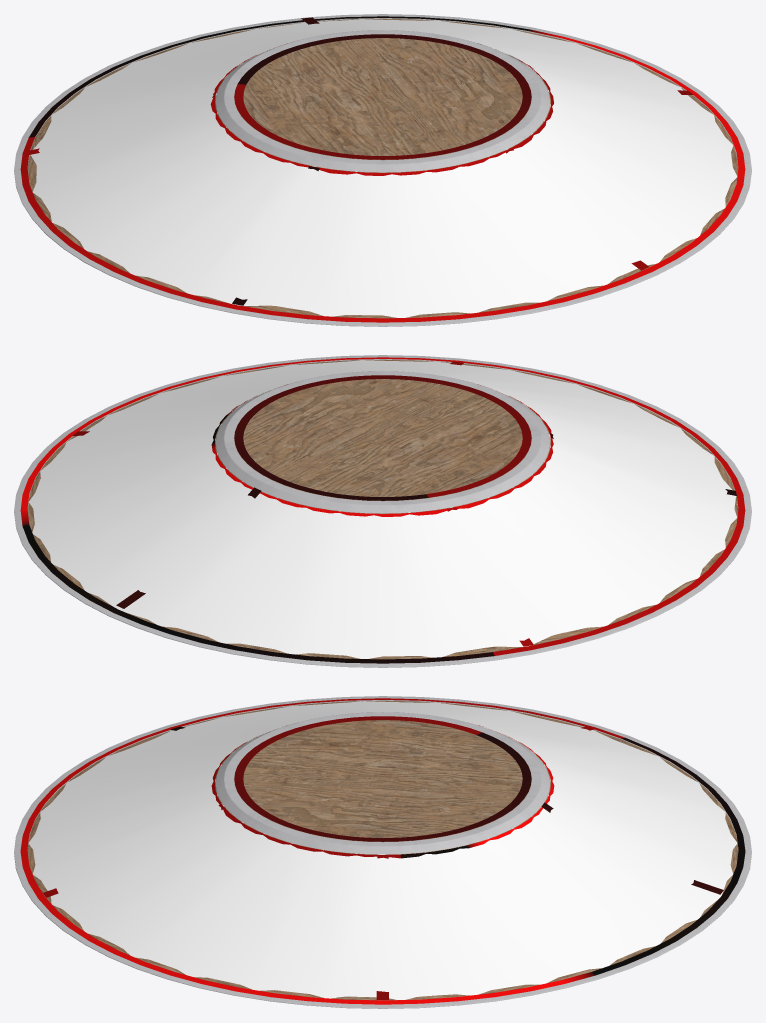
Rendered from Generic Volcano Small.fbx.
The picture shows the model from 3 angles, top to bottom: view 1: azimuth 30°, elevation 25°; view 2: azimuth 150°, elevation 25°; view 3: azimuth 270°, elevation 25°; orthographic projection.
Visible parts, largest first — view 1: RS_LOD3_SECTION0_QD_Treshold_M_proxy, RS_LOD0_SECTION0_QD_Treshold_M_RSMAT_1, RS_LOD0_SECTION0_QD_Treshold_M_RSMAT_0, RS_LOD1_SECTION0_QD_Treshold_M_RSMAT_6, RS_LOD0_SECTION1_QD_Edges_M, RS_LOD2_SECTION0_QD_Treshold_M_RSMAT_10, RS_LOD0_SECTION0_QD_Treshold_M_RSMAT_3; view 2: RS_LOD3_SECTION0_QD_Treshold_M_proxy, RS_LOD0_SECTION0_QD_Treshold_M_RSMAT_1, RS_LOD0_SECTION0_QD_Treshold_M_RSMAT_0, RS_LOD1_SECTION0_QD_Treshold_M_RSMAT_6, RS_LOD0_SECTION1_QD_Edges_M, RS_LOD2_SECTION0_QD_Treshold_M_RSMAT_10, RS_LOD0_SECTION0_QD_Treshold_M_RSMAT_3; view 3: RS_LOD3_SECTION0_QD_Treshold_M_proxy, RS_LOD0_SECTION0_QD_Treshold_M_RSMAT_1, RS_LOD0_SECTION0_QD_Treshold_M_RSMAT_0, RS_LOD0_SECTION1_QD_Edges_M, RS_LOD1_SECTION0_QD_Treshold_M_RSMAT_6, RS_LOD2_SECTION0_QD_Treshold_M_RSMAT_10, RS_LOD0_SECTION0_QD_Treshold_M_RSMAT_3.
Part boxes in pixels (bbox=[...]): RS_LOD3_SECTION0_QD_Treshold_M_proxy: bbox=[31, 19, 737, 317]; RS_LOD0_SECTION0_QD_Treshold_M_RSMAT_1: bbox=[234, 38, 531, 160]; RS_LOD0_SECTION0_QD_Treshold_M_RSMAT_0: bbox=[14, 14, 751, 326]; RS_LOD1_SECTION0_QD_Treshold_M_RSMAT_6: bbox=[236, 38, 519, 159]; RS_LOD0_SECTION1_QD_Edges_M: bbox=[20, 16, 745, 322]; RS_LOD2_SECTION0_QD_Treshold_M_RSMAT_10: bbox=[243, 38, 522, 154]; RS_LOD0_SECTION0_QD_Treshold_M_RSMAT_3: bbox=[27, 18, 738, 318]; RS_LOD3_SECTION0_QD_Treshold_M_proxy: bbox=[29, 360, 737, 658]; RS_LOD0_SECTION0_QD_Treshold_M_RSMAT_1: bbox=[234, 379, 531, 501]; RS_LOD0_SECTION0_QD_Treshold_M_RSMAT_0: bbox=[14, 355, 751, 667]; RS_LOD1_SECTION0_QD_Treshold_M_RSMAT_6: bbox=[244, 379, 522, 499]; RS_LOD0_SECTION1_QD_Edges_M: bbox=[20, 357, 745, 663]; RS_LOD2_SECTION0_QD_Treshold_M_RSMAT_10: bbox=[243, 379, 519, 495]; RS_LOD0_SECTION0_QD_Treshold_M_RSMAT_3: bbox=[27, 359, 738, 659]; RS_LOD3_SECTION0_QD_Treshold_M_proxy: bbox=[28, 701, 737, 999]; RS_LOD0_SECTION0_QD_Treshold_M_RSMAT_1: bbox=[234, 720, 531, 842]; RS_LOD0_SECTION0_QD_Treshold_M_RSMAT_0: bbox=[14, 696, 751, 1008]; RS_LOD0_SECTION1_QD_Edges_M: bbox=[20, 698, 745, 1004]; RS_LOD1_SECTION0_QD_Treshold_M_RSMAT_6: bbox=[245, 720, 521, 841]; RS_LOD2_SECTION0_QD_Treshold_M_RSMAT_10: bbox=[247, 720, 522, 836]; RS_LOD0_SECTION0_QD_Treshold_M_RSMAT_3: bbox=[27, 700, 738, 1000].
Size of the model in its own units: 6.01 by 0.6701 by 6.01.
7 materials, 5 textured.
